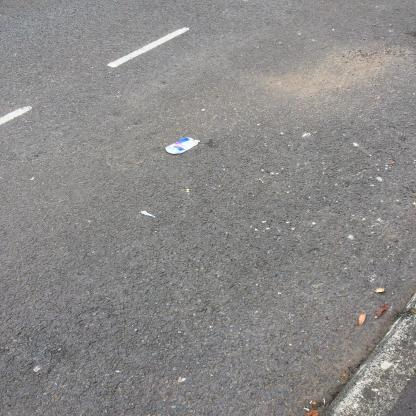Metal: (166, 137, 200, 154)
Waste: (141, 211, 156, 218)
